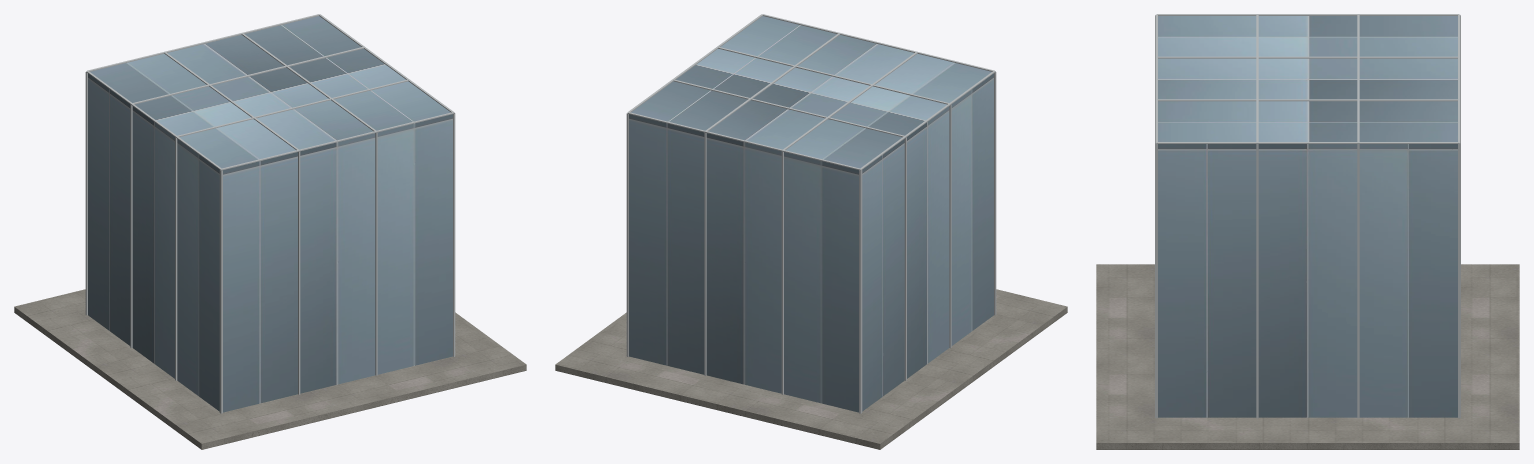
Rendered from apple_cube.glb.
3 renders of one model, left to right at view 1: azimuth 30°, elevation 25°; view 2: azimuth 150°, elevation 25°; view 3: azimuth 270°, elevation 25°, orthographic. The views are drawn at different scales.
Parts seen in each view (by area): view 1: apple_cube; view 2: apple_cube; view 3: apple_cube.
Boxes of the visible parts, box(x1,y1,x2,y2) form: apple_cube: box(14, 14, 526, 449); apple_cube: box(555, 14, 1067, 449); apple_cube: box(1096, 14, 1519, 449).
Size of the model in its own units: 14 by 10.29 by 14.
3 materials, 3 textured.
